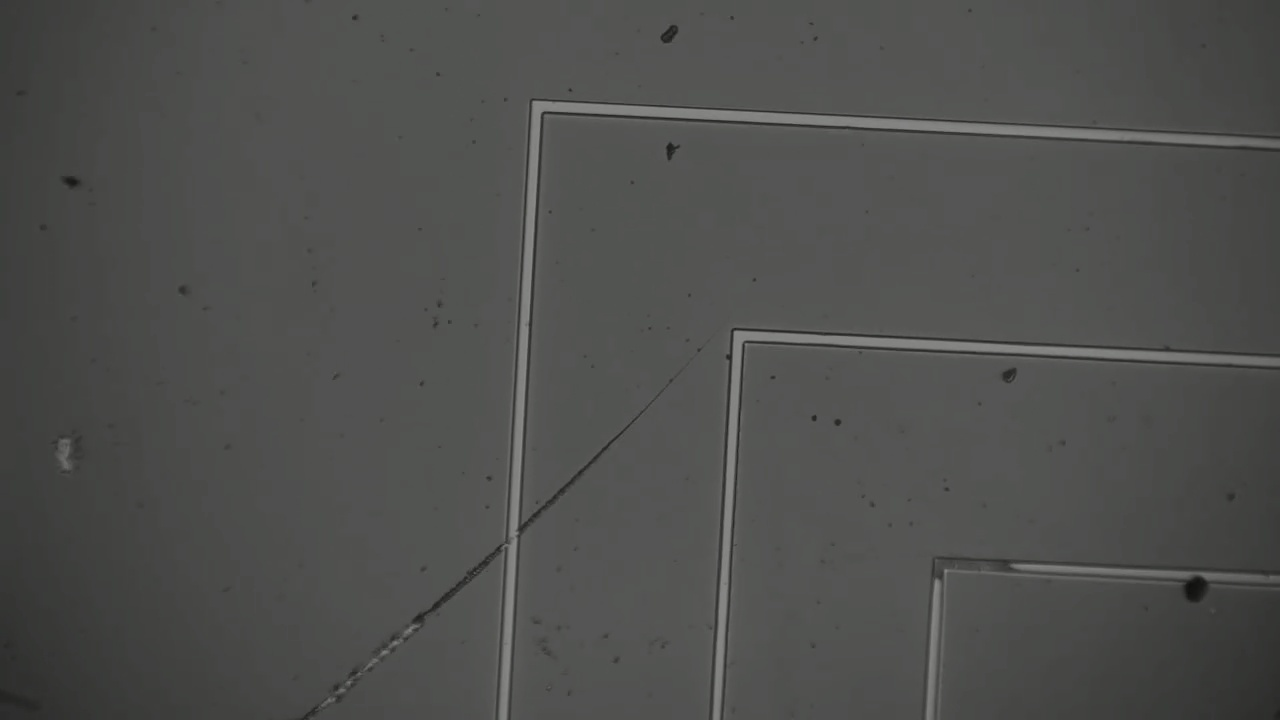gray_line: (916, 550, 1028, 583), (919, 545, 954, 603)
scratch: (293, 336, 708, 719)
stains_enbedded: (1172, 560, 1222, 617)
